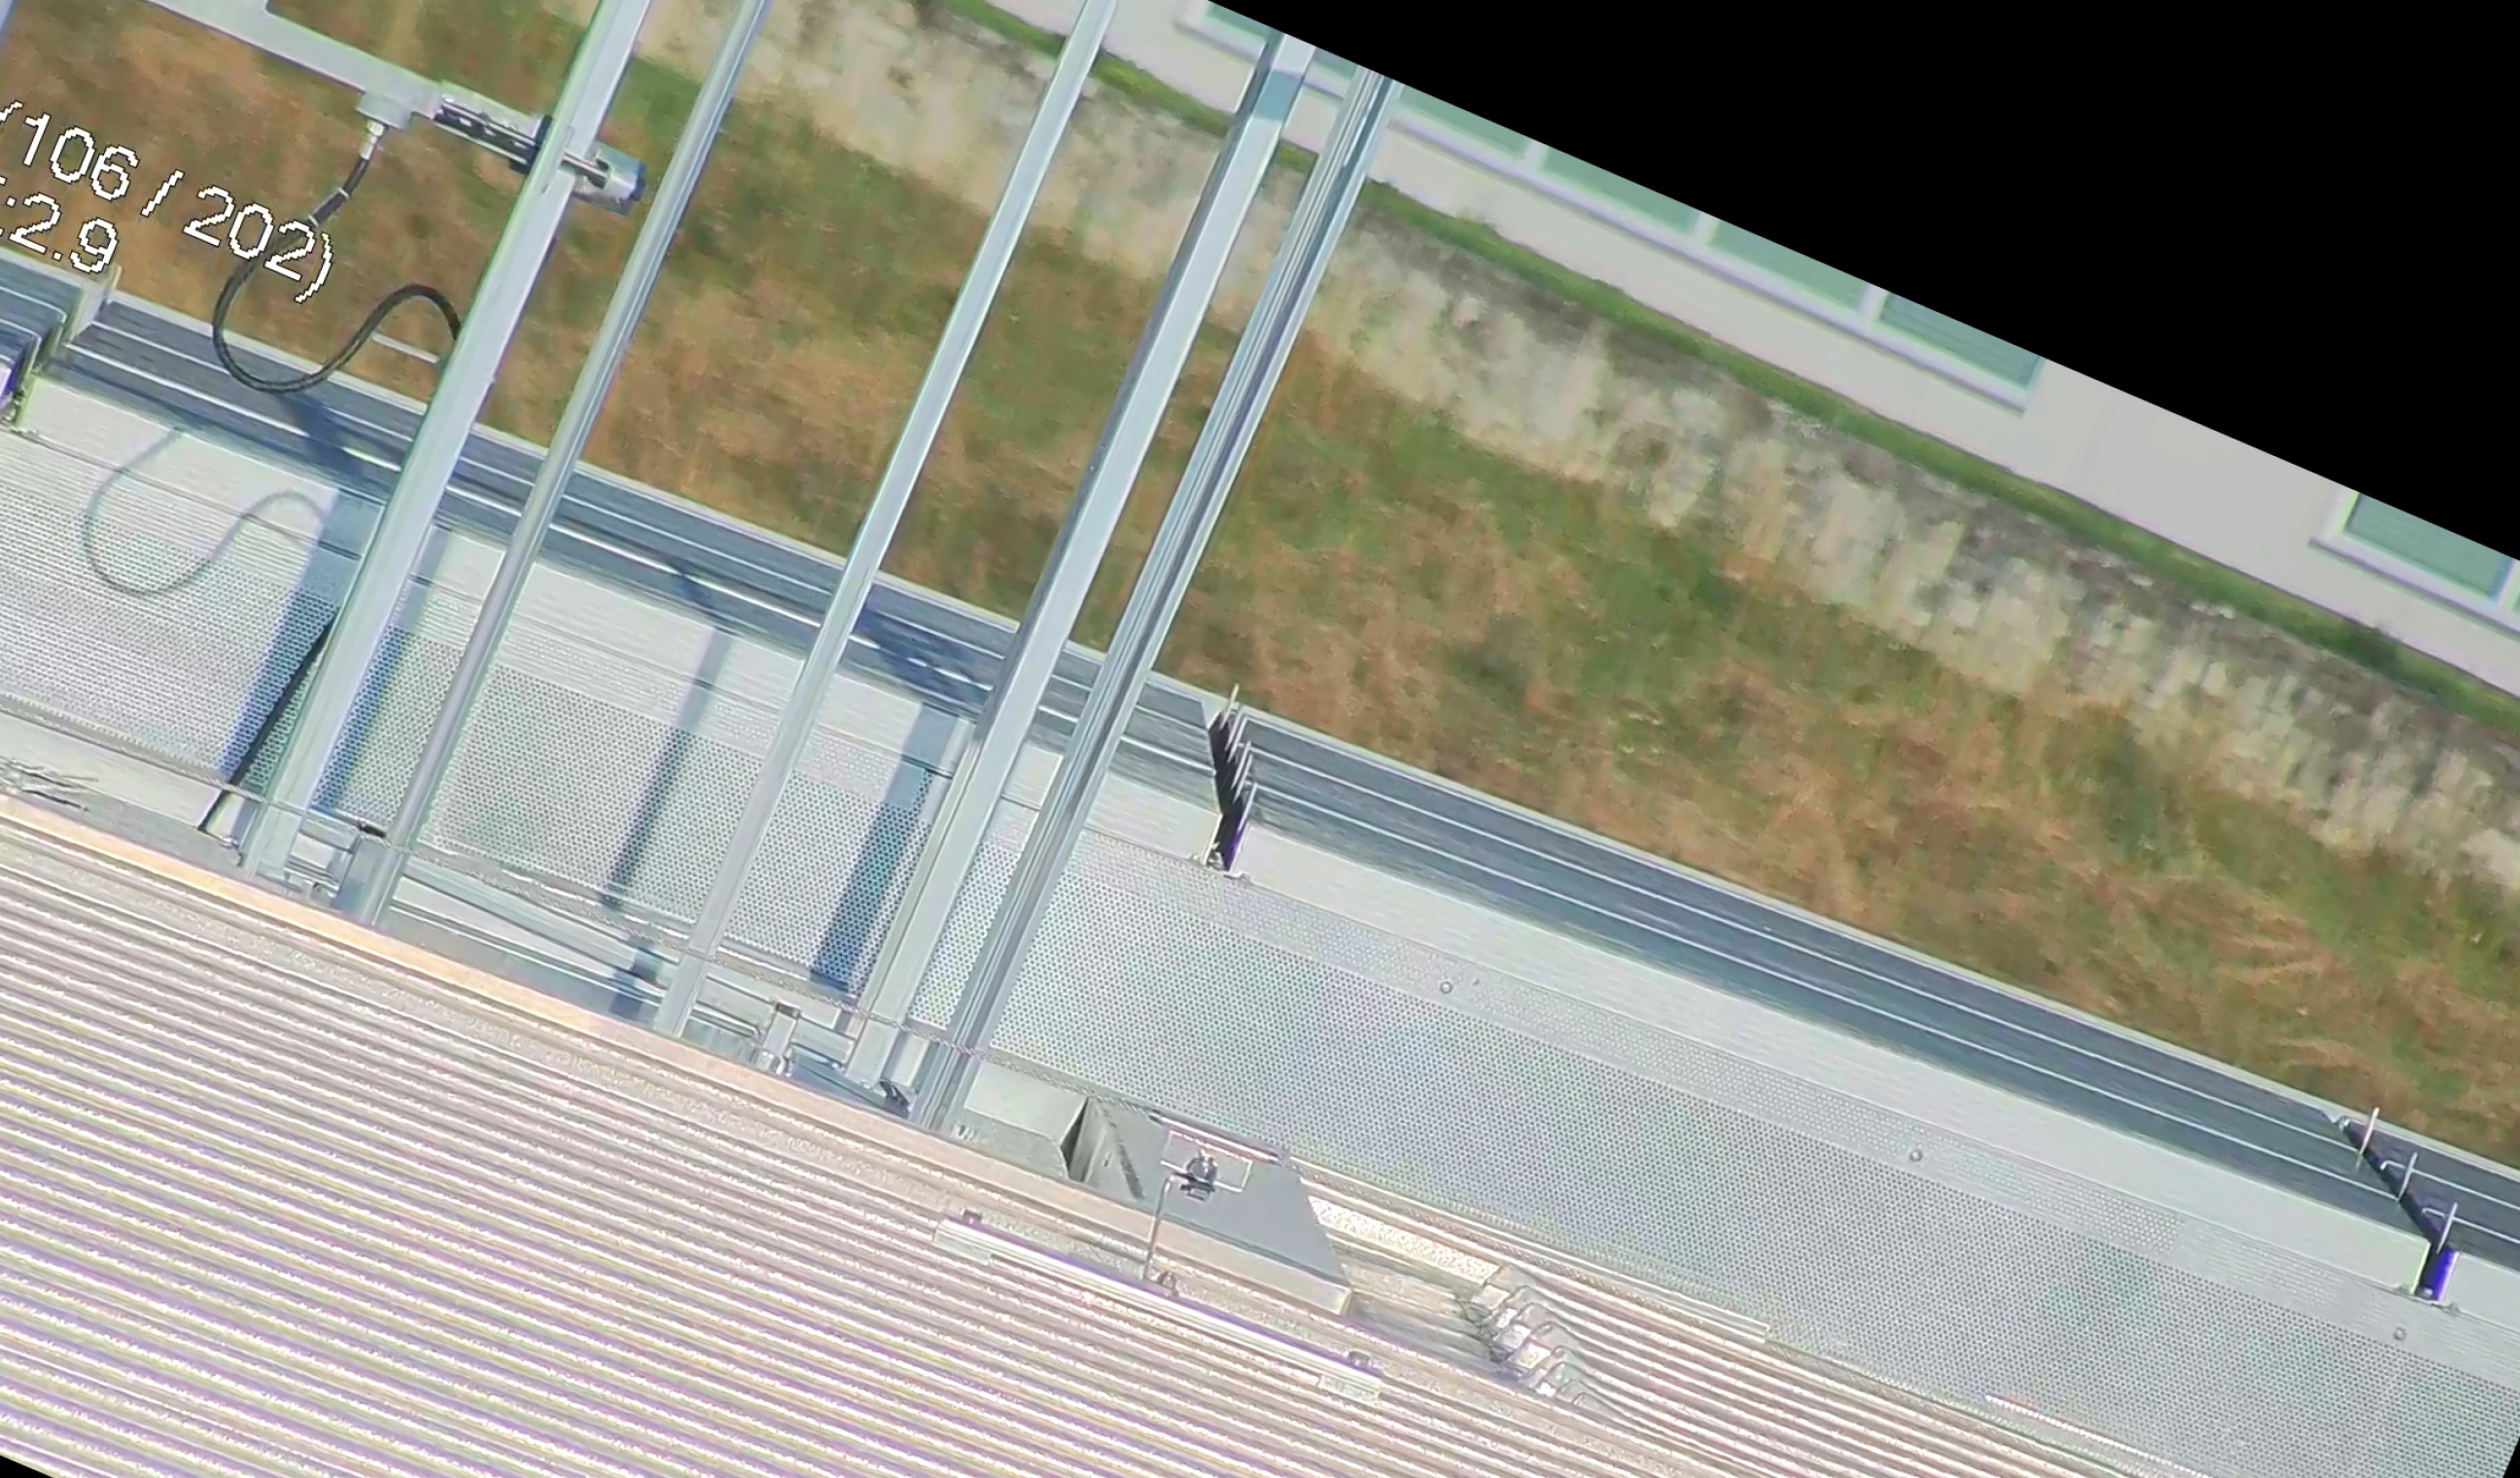Other: (1136, 670, 1324, 901)
